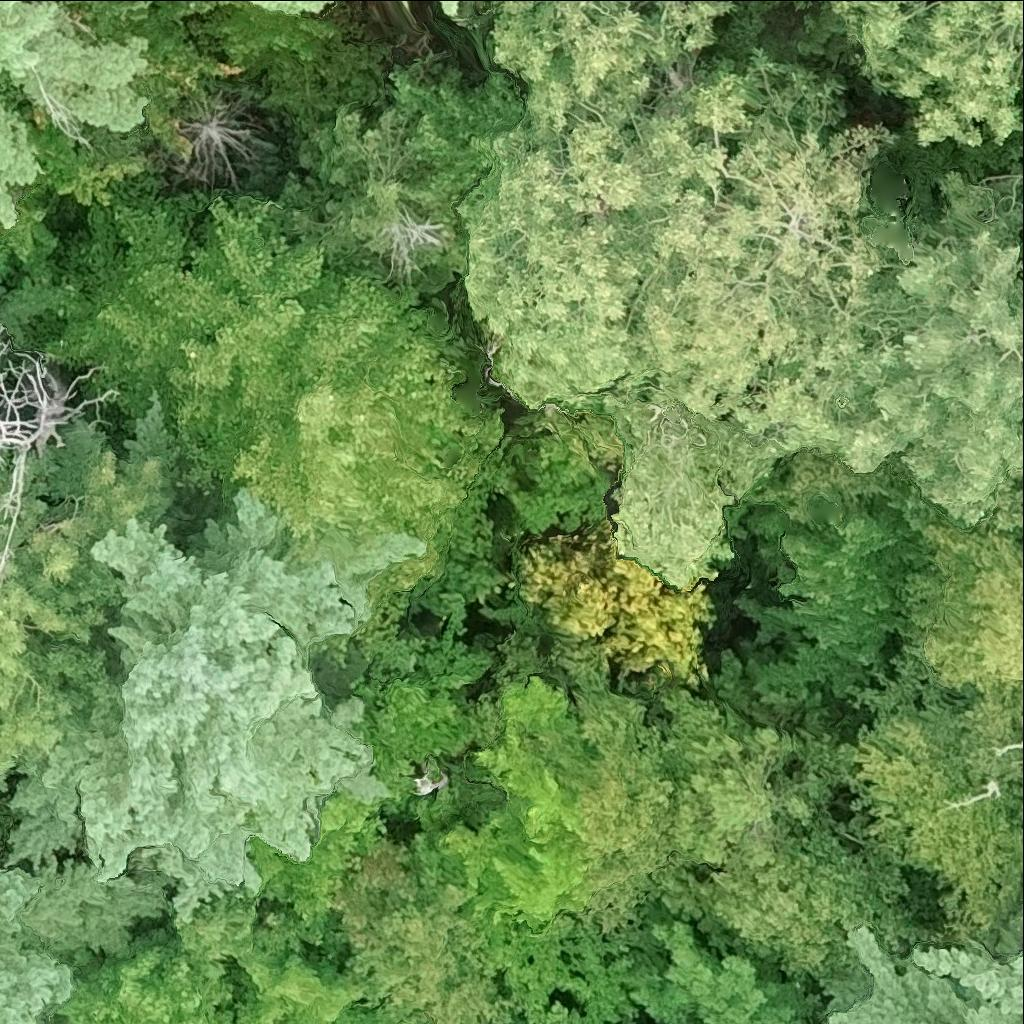crown: (458, 0, 1023, 590), (2, 488, 425, 918), (218, 281, 512, 633), (31, 197, 355, 475), (0, 0, 248, 274), (0, 395, 171, 778), (633, 829, 917, 1011), (848, 683, 1023, 951), (725, 0, 1023, 144), (261, 106, 471, 298), (649, 687, 857, 871), (846, 525, 1023, 726), (515, 515, 713, 680), (386, 806, 639, 925), (761, 504, 941, 660), (160, 886, 371, 1017), (558, 648, 680, 874), (0, 332, 113, 576), (194, 0, 405, 130), (244, 791, 405, 961), (442, 676, 615, 833), (346, 656, 508, 817), (383, 63, 525, 233), (605, 918, 822, 1023), (828, 912, 1023, 1023), (315, 882, 468, 1023), (0, 0, 149, 130), (21, 850, 176, 967), (43, 928, 228, 1023), (504, 907, 636, 1023), (209, 957, 405, 1023), (0, 868, 76, 1023), (432, 914, 526, 1023), (170, 91, 271, 192), (0, 93, 39, 219), (384, 209, 440, 276), (991, 156, 1023, 271), (246, 0, 349, 23), (1004, 467, 1023, 536), (518, 1006, 578, 1023), (433, 0, 465, 24), (0, 447, 14, 496), (0, 516, 9, 544)
